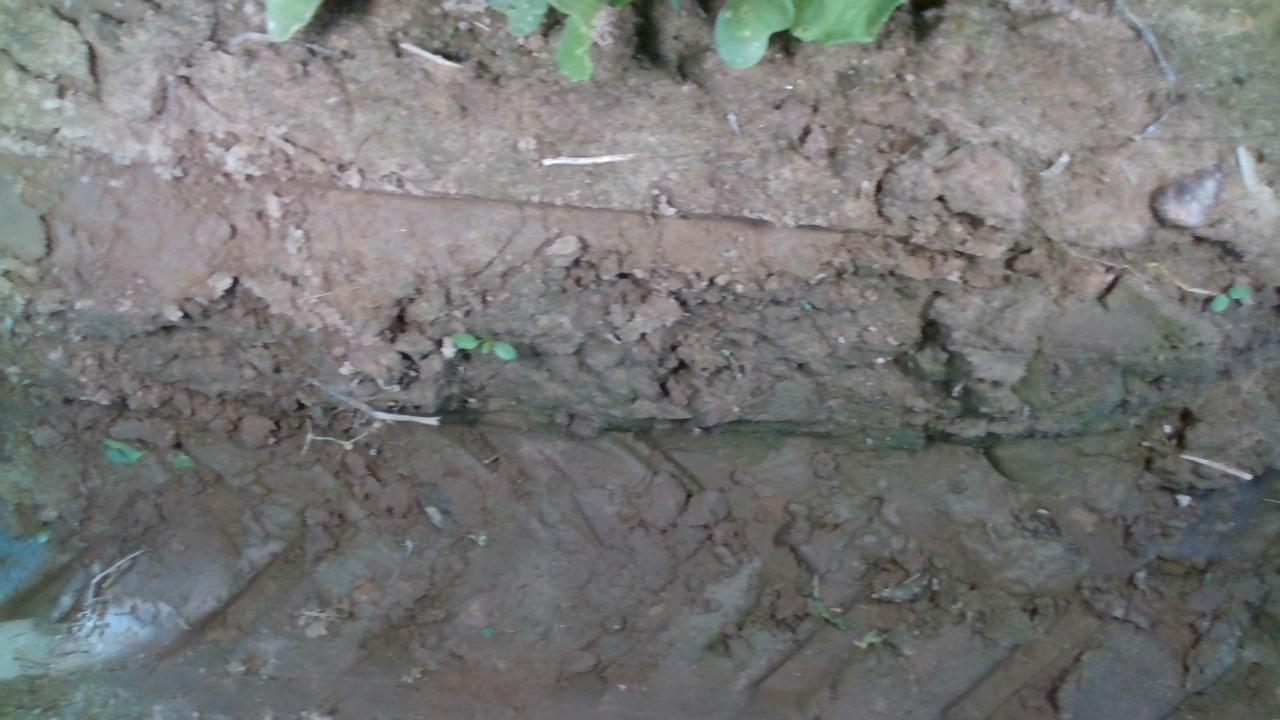weed: (447, 329, 518, 362), (1206, 281, 1253, 314)
